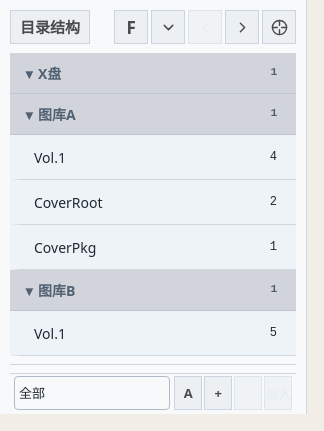
SidebarPanel music interactions › 折叠全部按钮再次点击会展开所有含图父级节点
Step 1. Click the button named "折叠全部含图父级" → (168, 27), box [151,10,185,44]
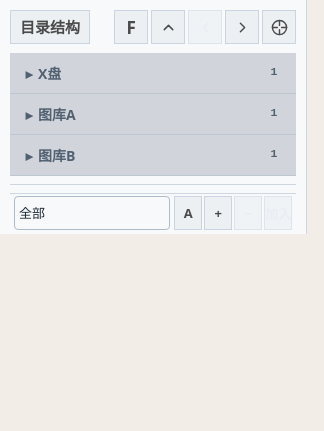
Step 2. Click the button named "展开全部含图父级" → (168, 27), box [151,10,185,44]
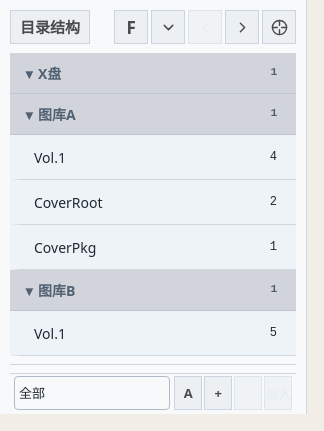
Expected: the number of buttons "Vol.1 4" is 2, [22,135,296,179]; [22,311,296,355]
